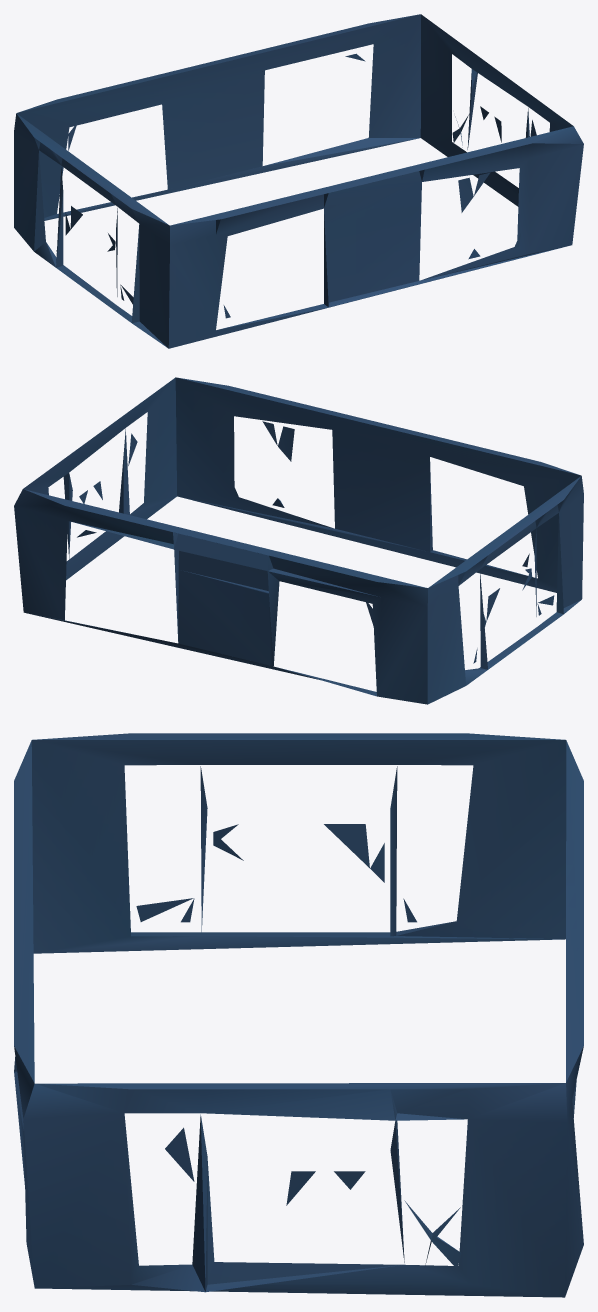
Rendered from tote-lo.glb.
The picture shows the model from 3 angles, top to bottom: view 1: azimuth 30°, elevation 25°; view 2: azimuth 150°, elevation 25°; view 3: azimuth 270°, elevation 25°; orthographic projection. The views are drawn at different scales.
Parts seen in each view (by area): view 1: body; view 2: body; view 3: body.
Part boxes in pixels (box(x1,y1,x2,y2)): body: box(14, 14, 583, 348); body: box(14, 377, 583, 704); body: box(14, 733, 583, 1297).
Bounding box in the file's own units: 0.6051 × 0.1687 × 0.4051.
